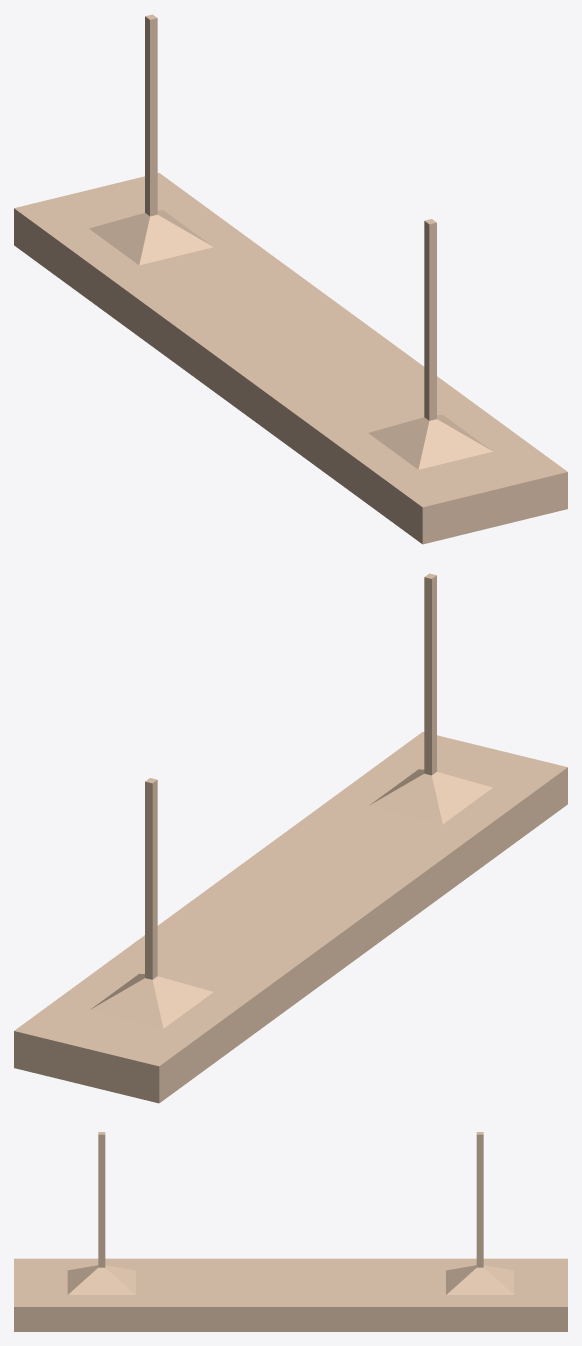
Rendered from Lamppu2.fbx.
3 views of the same model, one above another, from view 1: azimuth 30°, elevation 25°; view 2: azimuth 150°, elevation 25°; view 3: azimuth 270°, elevation 25° (orthographic). The views are drawn at different scales.
Parts seen in each view (by area): view 1: Lamppu2; view 2: Lamppu2; view 3: Lamppu2.
Boxes of the visible parts, x1,y1,x2,y2 form: Lamppu2: (14,14,567,544); Lamppu2: (14,573,567,1103); Lamppu2: (14,1132,567,1331).
Size of the model in its own units: 34.41 by 58.34 by 168.
